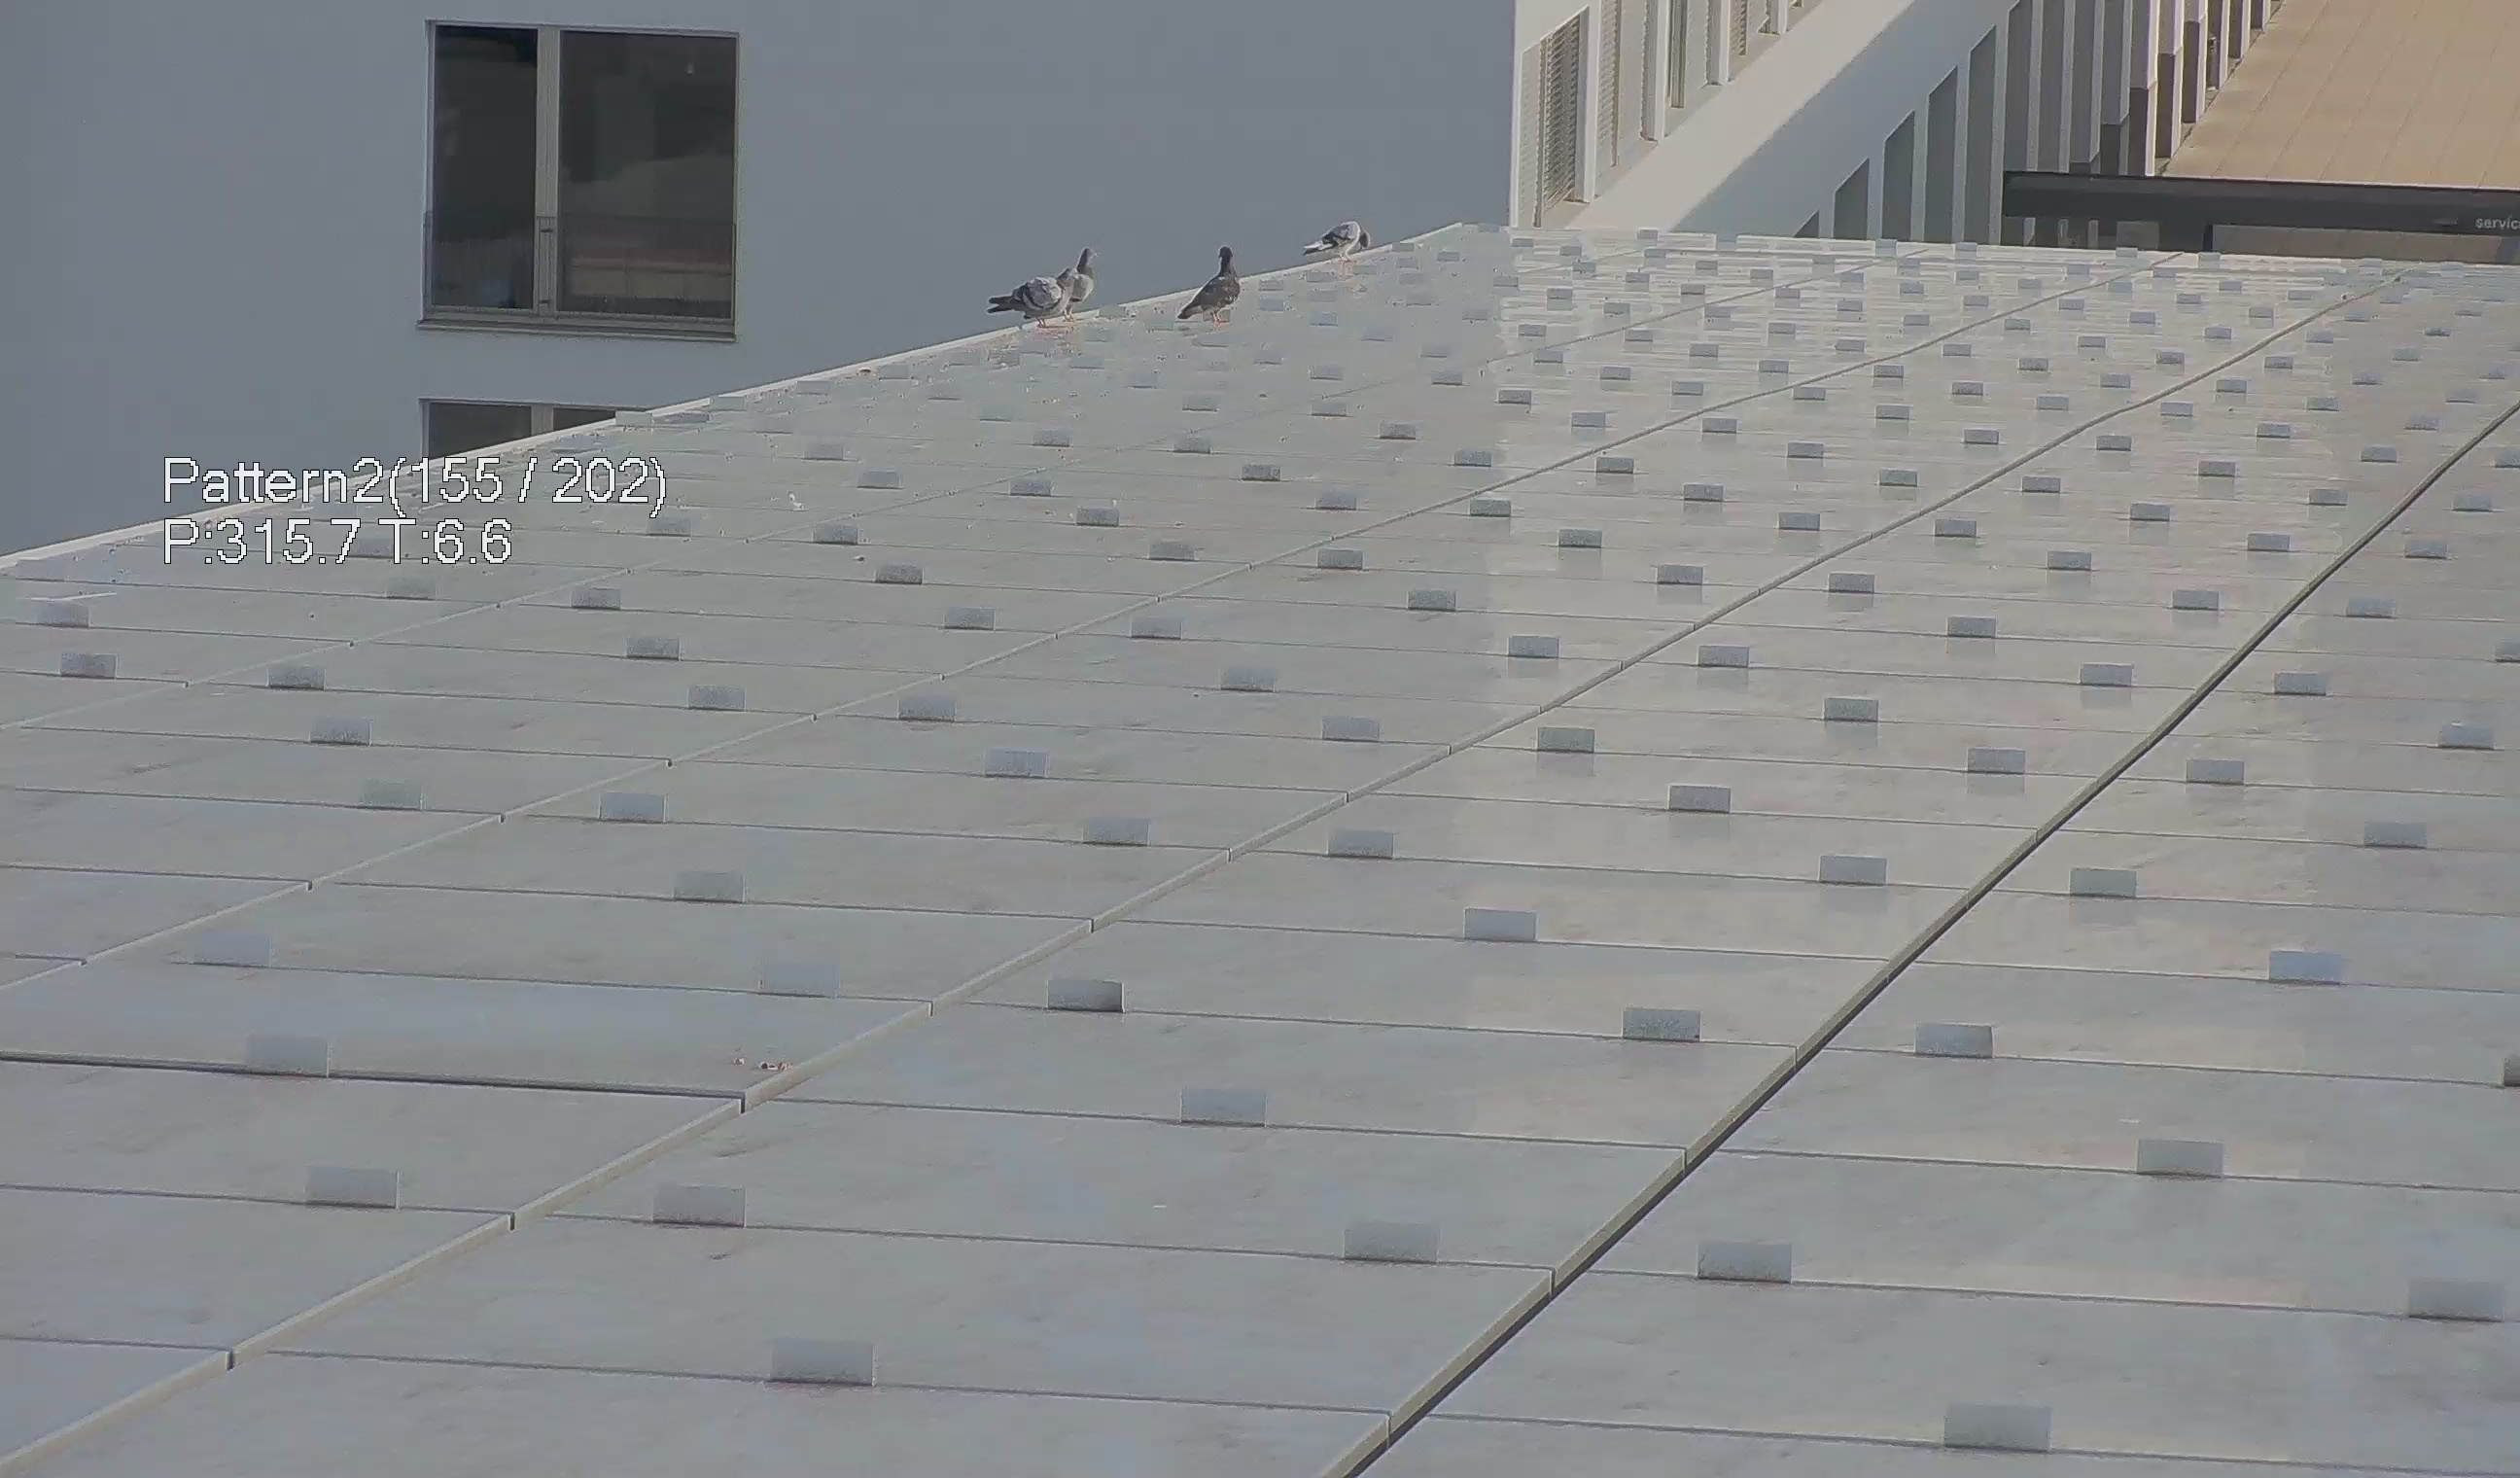Pigeon: (981, 225, 1092, 329), (1176, 227, 1242, 331), (1301, 216, 1380, 269), (1064, 238, 1108, 303)
